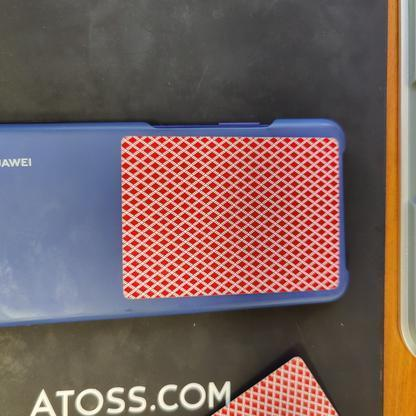card: (118, 132, 345, 297), (191, 344, 359, 416)
